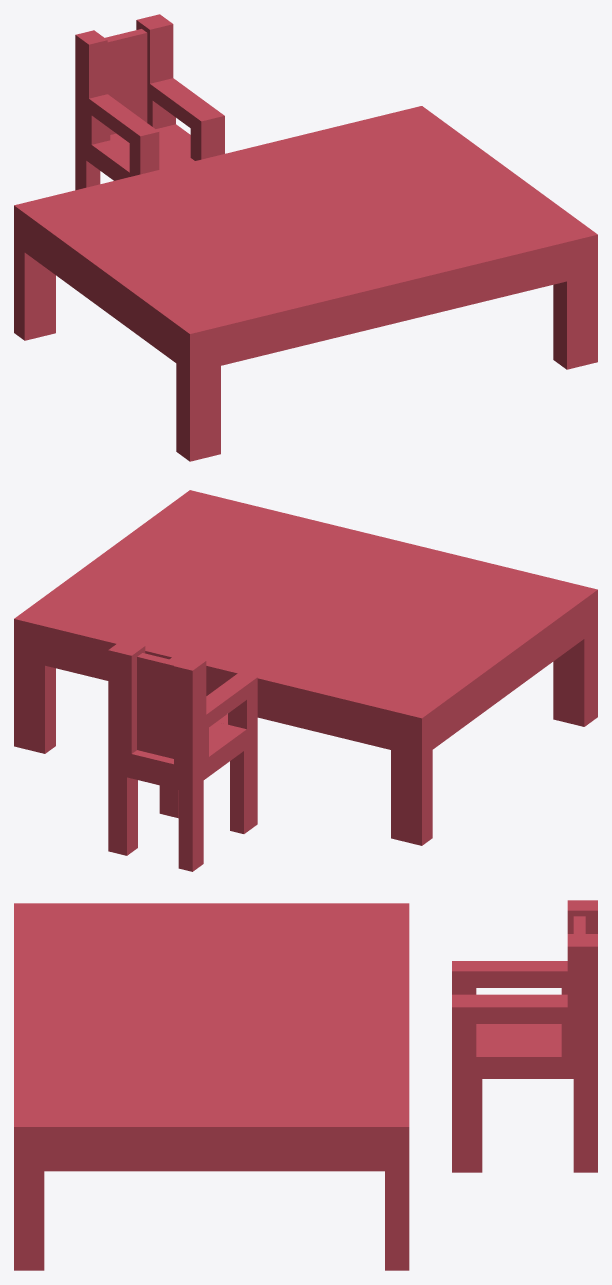
File: Chair and table.glb
The picture shows the model from 3 angles, top to bottom: view 1: azimuth 30°, elevation 25°; view 2: azimuth 150°, elevation 25°; view 3: azimuth 270°, elevation 25°; orthographic projection. The views are drawn at different scales.
Visible parts, largest first — view 1: Mesh_Mesh_head_geo.001_lambert2SG.001; view 2: Mesh_Mesh_head_geo.001_lambert2SG.001; view 3: Mesh_Mesh_head_geo.001_lambert2SG.001.
Boxes of the visible parts, bbox=[...] form: Mesh_Mesh_head_geo.001_lambert2SG.001: bbox=[14, 14, 597, 461]; Mesh_Mesh_head_geo.001_lambert2SG.001: bbox=[14, 490, 597, 871]; Mesh_Mesh_head_geo.001_lambert2SG.001: bbox=[14, 900, 597, 1270].
Bounding box in the file's own units: 87 × 41 × 96.
